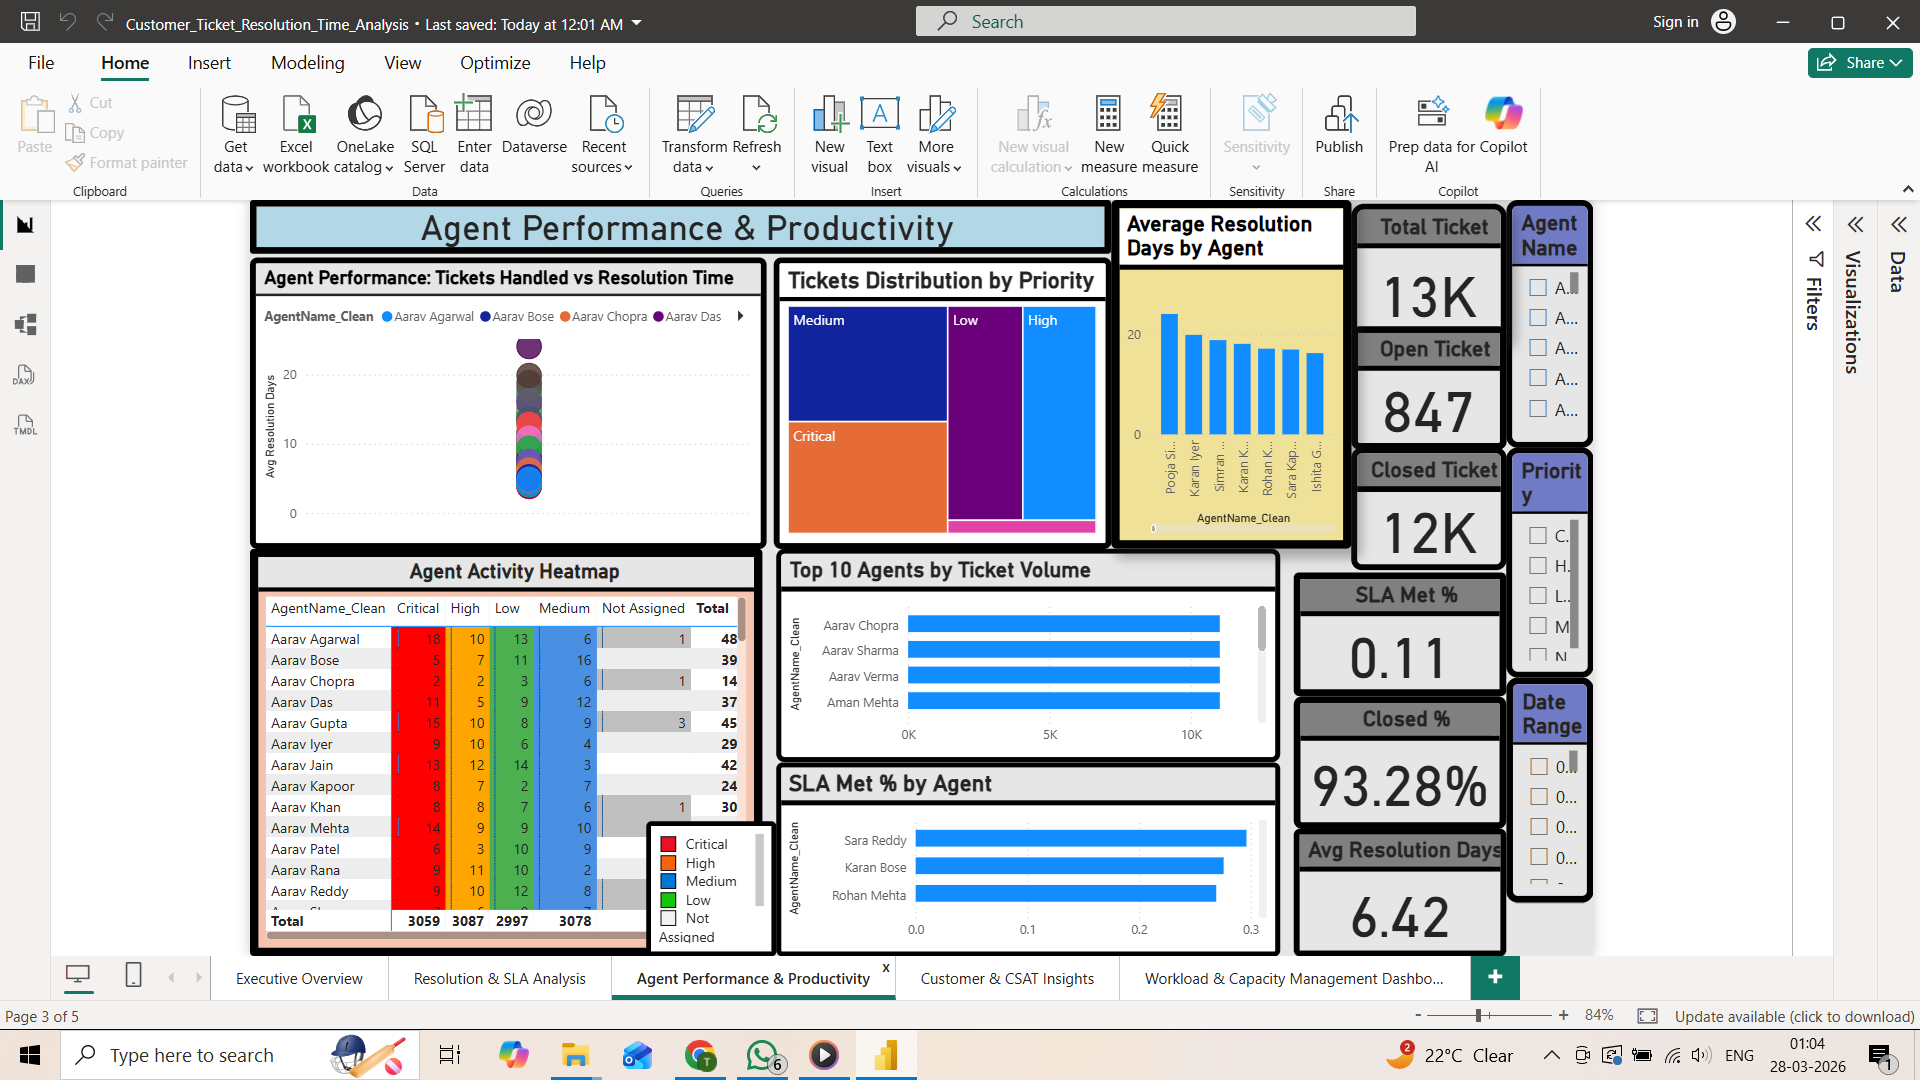

The page's visual inventory and layout, read from the dashboard file:
{"tool":"powerbi","page":{"name":"Agent Performance & Productivity","canvas":[1280,720],"ordinal":2},"visuals":[{"type":"textbox","title":"Agent Performance & Productivity","box":[0,0,820.2,51.2],"z":0},{"type":"slicer","title":"Agent Name","fields":{"Values":["tickets.AgentName_Clean"]},"box":[1196.4,0,83.3,235.7],"z":1000},{"type":"slicer","title":"Date Range","fields":{"Values":["DateTable.Date"]},"box":[1196.4,454.8,83.3,214.3],"z":2000},{"type":"slicer","title":"Priority","fields":{"Values":["tickets.priority"]},"box":[1196.4,235.7,83.3,219],"z":3000},{"type":"card","title":"Total Ticket","fields":{"Values":["all_measures.Total Tickets"]},"box":[1048.8,3.6,147.6,131],"z":4000},{"type":"card","title":"Closed Ticket","fields":{"Values":["all_measures.Closed Tickets"]},"box":[1048.8,235.7,147.6,116.7],"z":5000},{"type":"card","title":"Open Ticket","fields":{"Values":["all_measures.Open Tickets"]},"box":[1048.8,120.2,147.6,117.9],"z":6000},{"type":"card","title":"Closed %","fields":{"Values":["all_measures.Closed %"]},"box":[994.1,472.6,202.4,126.2],"z":7000},{"type":"card","title":"SLA Met %","fields":{"Values":["all_measures.SLA Met %"]},"box":[994.1,354.8,202.4,117.9],"z":8000},{"type":"card","title":"Avg Resolution Days","fields":{"Values":["all_measures.Avg Resolution Days"]},"box":[994.1,598.8,202.4,121.4],"z":9000},{"type":"treemap","title":"Tickets Distribution by Priority","fields":{"Values":["CountNonNull(tickets.ticket_id)"],"Group":["tickets.priority"]},"box":[498.8,54.8,321.4,277.4],"z":10000},{"type":"clusteredBarChart","title":"Top 10 Agents by Ticket Volume","fields":{"Category":["tickets.AgentName_Clean"],"Y":["all_measures.Total Tickets (No Unassigned)"]},"box":[501.2,332.1,479.8,203.6],"z":11000},{"type":"clusteredColumnChart","title":"Average Resolution Days by Agent","fields":{"Category":["tickets.AgentName_Clean"],"Y":["all_measures.Avg Resolution Days"]},"box":[820.2,0,228.6,332.1],"z":12000},{"type":"clusteredBarChart","title":"SLA Met % by Agent","fields":{"Category":["tickets.AgentName_Clean"],"Y":["all_measures.SLA Met %"]},"box":[501.2,535.7,479.8,184.5],"z":13000},{"type":"pivotTable","title":"Agent Activity Heatmap","fields":{"Rows":["tickets.AgentName_Clean"],"Columns":["tickets.priority"],"Values":["CountNonNull(tickets.ticket_id)"]},"box":[0,332.1,488.1,388.1],"z":14000},{"type":"textbox","box":[377.4,591.7,123.8,128.6],"z":15000},{"type":"scatterChart","title":"Agent Performance: Tickets Handled vs Resolution Time","fields":{"Y":["all_measures.Avg Resolution Days"],"Series":["tickets.AgentName_Clean"],"Size":["all_measures.Total Tickets (No Unassigned)"]},"box":[0,54.8,491.7,277.4],"z":16000}]}

Visuals, with their boxes on the page's 1280x720 design canvas (x1, y1, x2, y2). These are canvas units, not pixel positions in the 1920x1080 screenshot, which may show the page scaled, cropped or inside an application window:
"Agent Performance & Productivity" textbox: (x1=0, y1=0, x2=820, y2=51)
"Agent Name" slicer: (x1=1196, y1=0, x2=1280, y2=236)
"Date Range" slicer: (x1=1196, y1=455, x2=1280, y2=669)
"Priority" slicer: (x1=1196, y1=236, x2=1280, y2=455)
"Total Ticket" card: (x1=1049, y1=4, x2=1196, y2=135)
"Closed Ticket" card: (x1=1049, y1=236, x2=1196, y2=352)
"Open Ticket" card: (x1=1049, y1=120, x2=1196, y2=238)
"Closed %" card: (x1=994, y1=473, x2=1196, y2=599)
"SLA Met %" card: (x1=994, y1=355, x2=1196, y2=473)
"Avg Resolution Days" card: (x1=994, y1=599, x2=1196, y2=720)
"Tickets Distribution by Priority" treemap: (x1=499, y1=55, x2=820, y2=332)
"Top 10 Agents by Ticket Volume" clusteredBarChart: (x1=501, y1=332, x2=981, y2=536)
"Average Resolution Days by Agent" clusteredColumnChart: (x1=820, y1=0, x2=1049, y2=332)
"SLA Met % by Agent" clusteredBarChart: (x1=501, y1=536, x2=981, y2=720)
"Agent Activity Heatmap" pivotTable: (x1=0, y1=332, x2=488, y2=720)
textbox: (x1=377, y1=592, x2=501, y2=720)
"Agent Performance: Tickets Handled vs Resolution Time" scatterChart: (x1=0, y1=55, x2=492, y2=332)
